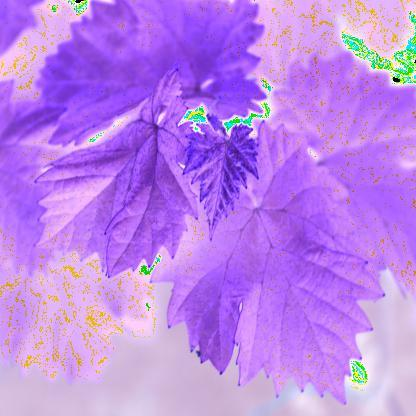grape leaf black rot: (162, 146, 392, 392), (27, 72, 198, 273), (40, 0, 270, 148), (165, 112, 265, 244)
